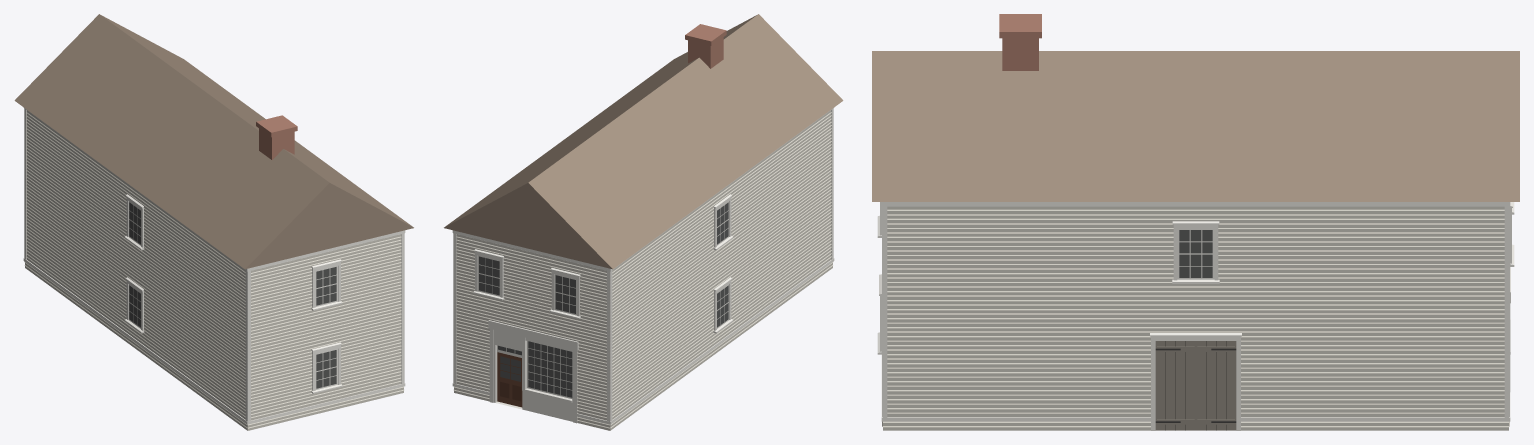
The model's file is recon_1835_core_c3_056__inferred_1835.glb.
The picture shows the model from 3 angles, left to right: view 1: azimuth 30°, elevation 25°; view 2: azimuth 150°, elevation 25°; view 3: azimuth 270°, elevation 25°; orthographic projection. The views are drawn at different scales.
Visible parts, largest first — view 1: recon_1835_core_c3_056__inferred_1835; view 2: recon_1835_core_c3_056__inferred_1835; view 3: recon_1835_core_c3_056__inferred_1835.
Boxes of the visible parts, x1=… form: recon_1835_core_c3_056__inferred_1835: x1=14, y1=14, x2=413, y2=430; recon_1835_core_c3_056__inferred_1835: x1=444, y1=14, x2=843, y2=430; recon_1835_core_c3_056__inferred_1835: x1=872, y1=14, x2=1519, y2=430.
Size of the model in its own units: 6.31 by 8.96 by 14.86.
